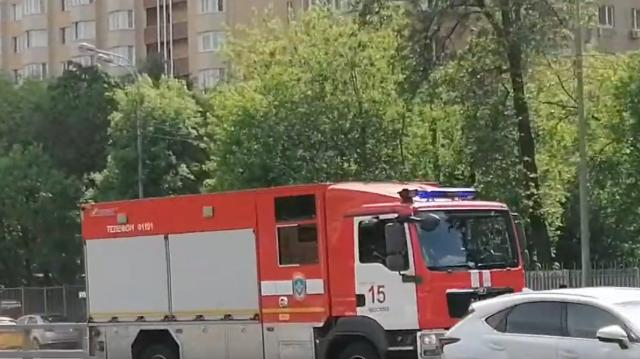fire fighting vehicle: (77, 181, 525, 359)
non emergency car: (14, 312, 84, 351)
